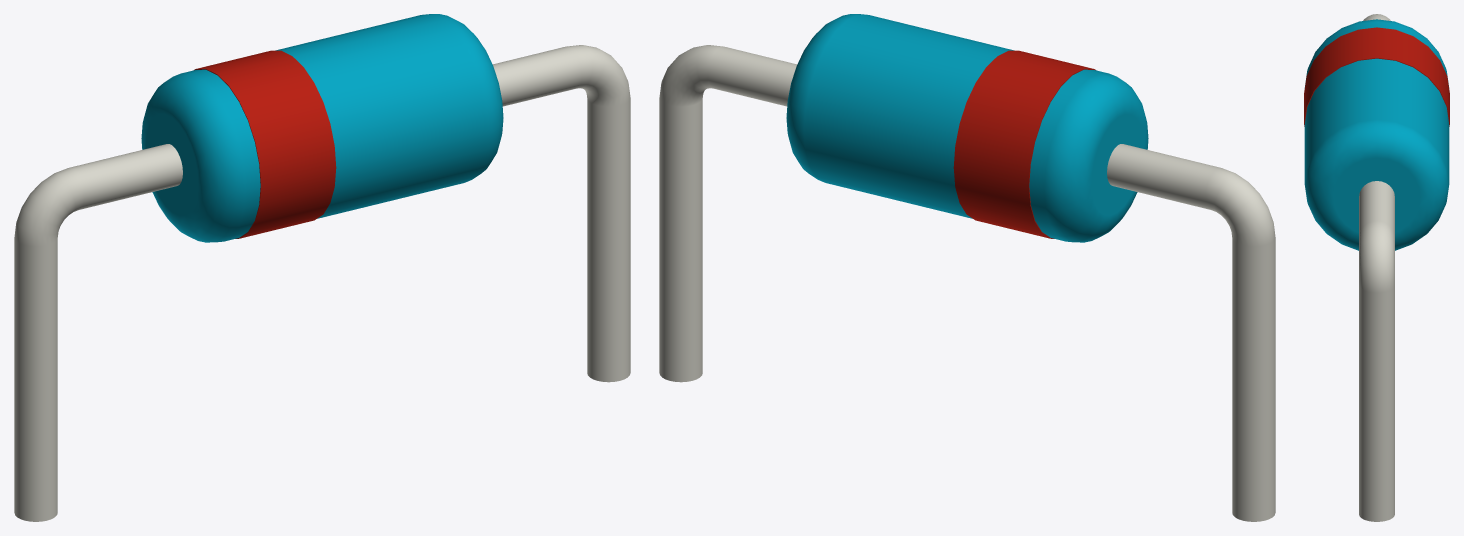
File: Diode_THT__D_DO-35_SOD27_P7.62mm_Horizontal.glb
The picture shows the model from 3 angles, left to right: view 1: azimuth 30°, elevation 25°; view 2: azimuth 150°, elevation 25°; view 3: azimuth 270°, elevation 25°; orthographic projection. The views are drawn at different scales.
Visible parts, largest first — view 1: D_DO-35_SOD27_P7.62mm_Horizontal; view 2: D_DO-35_SOD27_P7.62mm_Horizontal; view 3: D_DO-35_SOD27_P7.62mm_Horizontal.
Boxes of the visible parts, bbox=[...] form: D_DO-35_SOD27_P7.62mm_Horizontal: bbox=[14, 14, 630, 521]; D_DO-35_SOD27_P7.62mm_Horizontal: bbox=[659, 14, 1275, 521]; D_DO-35_SOD27_P7.62mm_Horizontal: bbox=[1304, 14, 1449, 521].
Size of the model in its own units: 0.00812 by 0.00501 by 0.00202.
